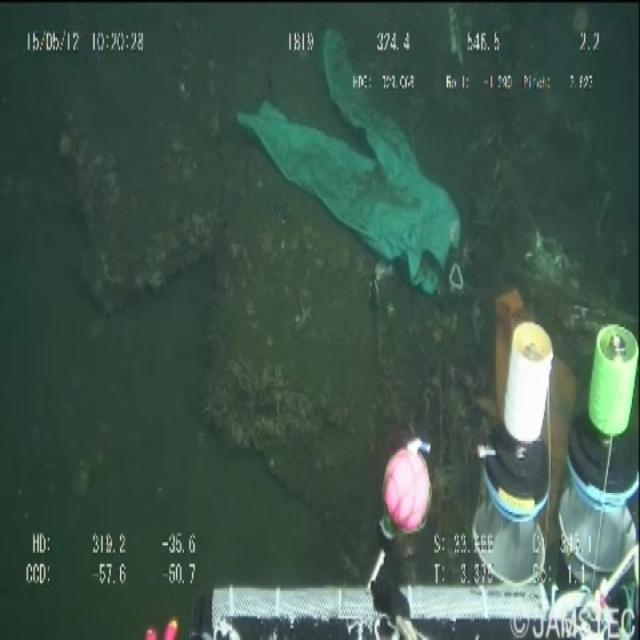Accessories: (236, 30, 460, 302), (493, 281, 593, 513)
